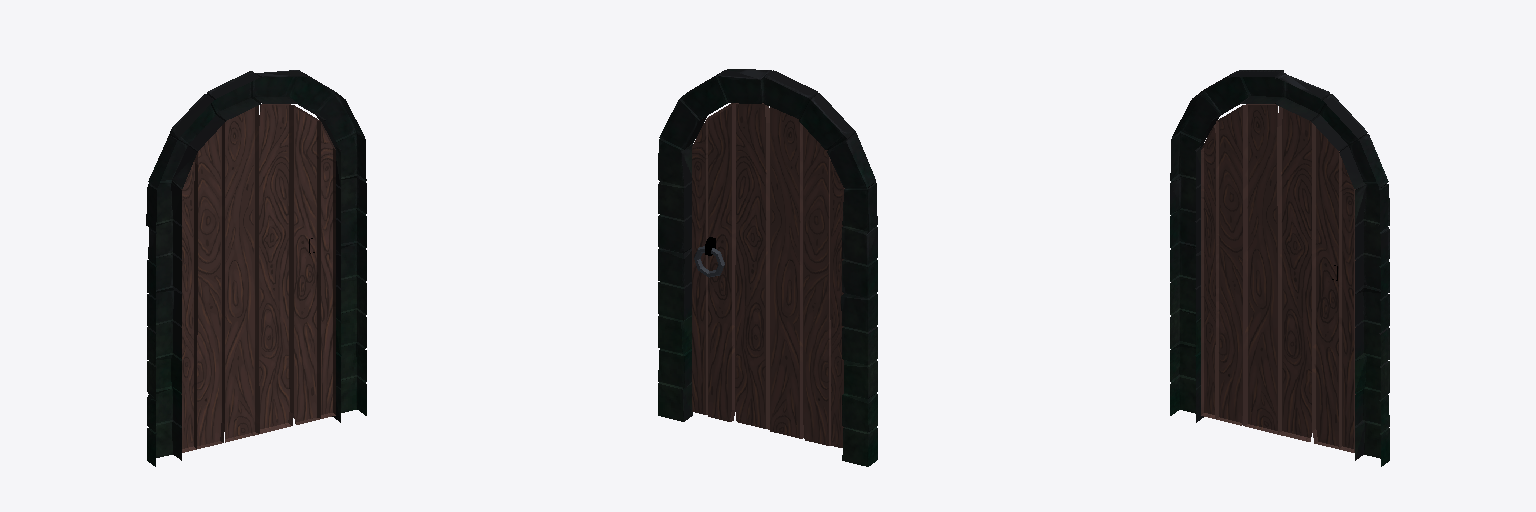
3 views of the same model, side by side, from view 1: azimuth 30°, elevation 25°; view 2: azimuth 150°, elevation 25°; view 3: azimuth 330°, elevation 25° (orthographic).
Visible parts, largest first — view 1: door_Cylinder.008, door_stones_Cylinder.007; view 2: door_Cylinder.008, door_stones_Cylinder.007; view 3: door_Cylinder.008, door_stones_Cylinder.007.
Part boxes in pixels (x1,y1,x2,y2): door_Cylinder.008: (181, 104, 335, 452); door_stones_Cylinder.007: (146, 70, 366, 466); door_Cylinder.008: (692, 103, 844, 447); door_stones_Cylinder.007: (658, 69, 877, 466); door_Cylinder.008: (1201, 104, 1355, 452); door_stones_Cylinder.007: (1170, 70, 1389, 466).
Bounding box in the file's own units: 1.3 × 2.15 × 0.1065.
Materials: 1 (1 with a texture image).